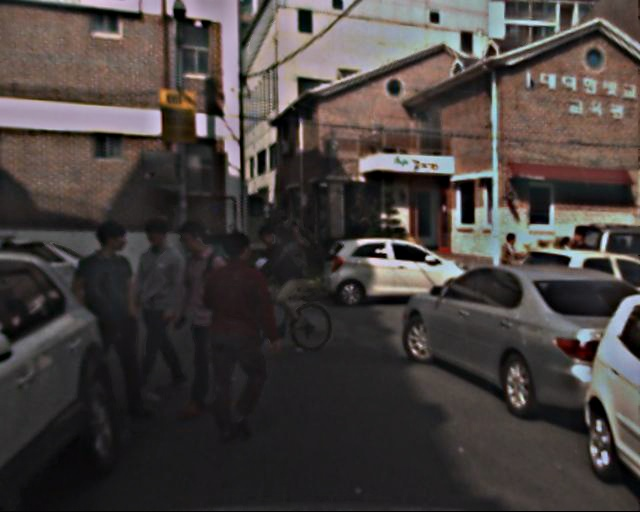person: (75, 225, 166, 417), (194, 233, 277, 438), (161, 223, 239, 409), (124, 218, 199, 386), (252, 224, 304, 350), (565, 232, 592, 298), (499, 234, 524, 294), (284, 216, 311, 264)
